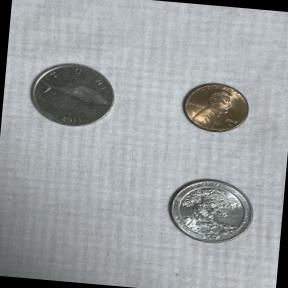Croatia-2Kune-B: (19, 55, 130, 139)
US-1cent-B: (170, 74, 258, 143)
US-25cent-B: (160, 172, 260, 250)
